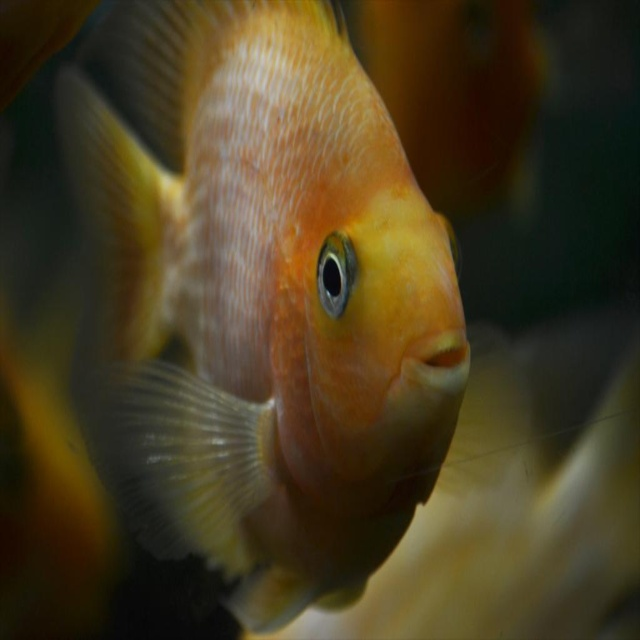Fish: (52, 0, 469, 634)
